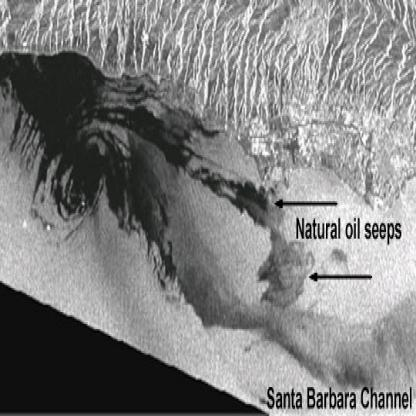oil: (4, 43, 281, 280)
